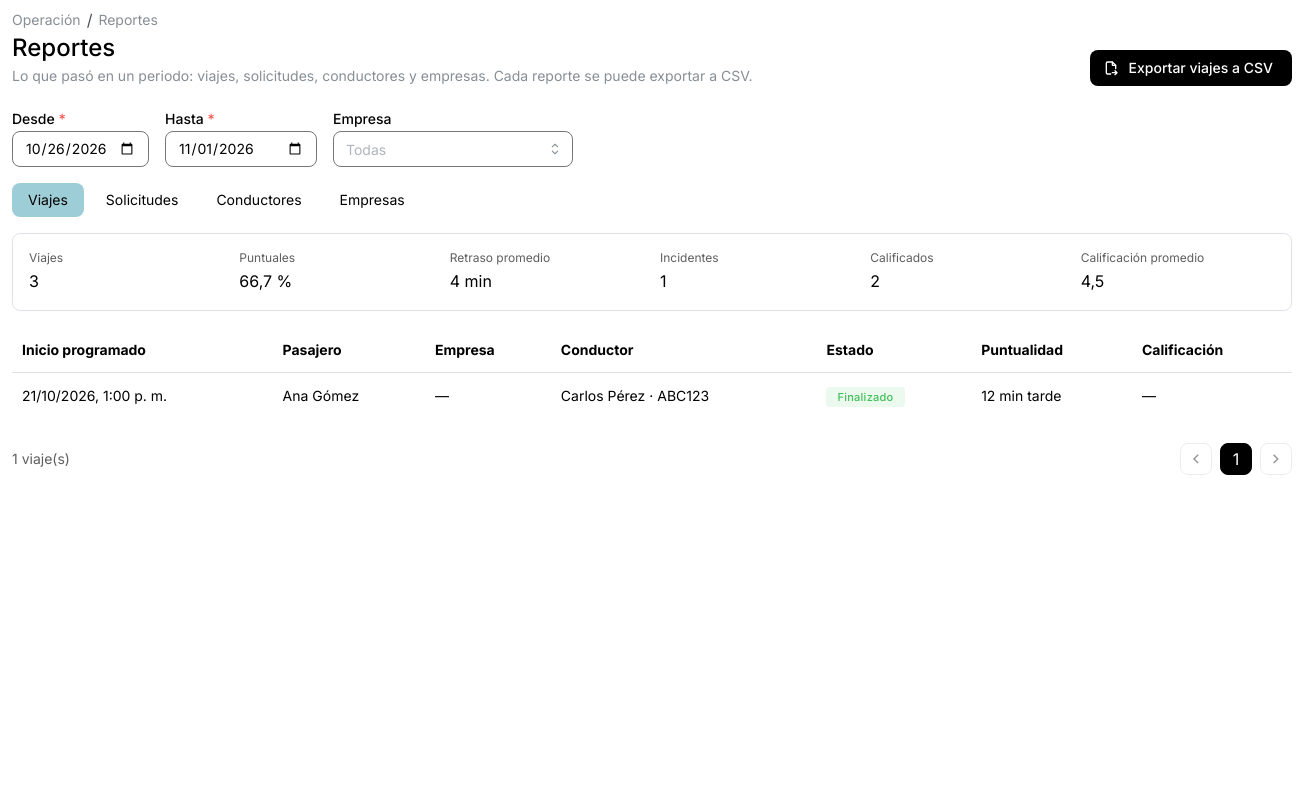
Test case: Reportes (RF-46 a RF-49) › filtra las solicitudes pendientes y exporta ese mismo reporte a CSV
Click the tab "Solicitudes" at (142, 200), box 90,183 -> 194,217
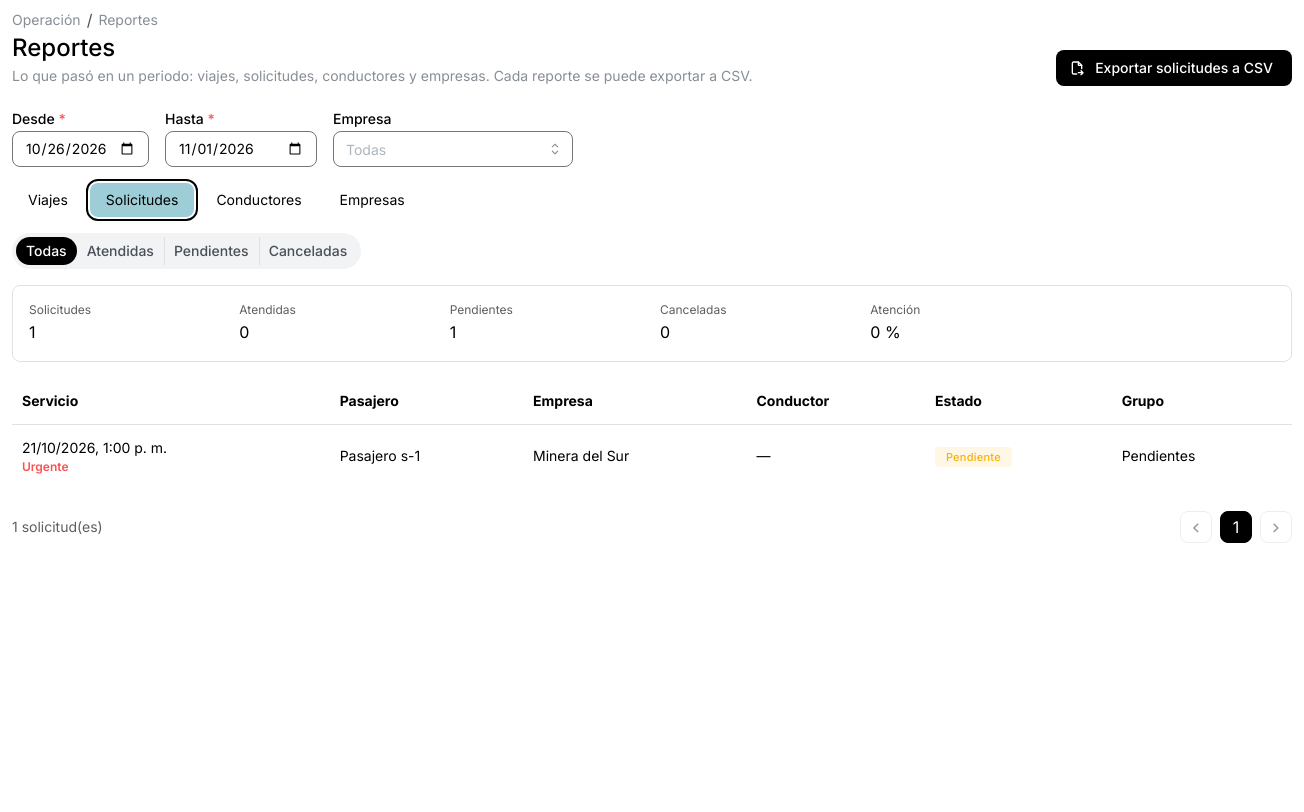
Click the radio button labelled "Pendientes" at (211, 250), box 174,242 -> 249,259
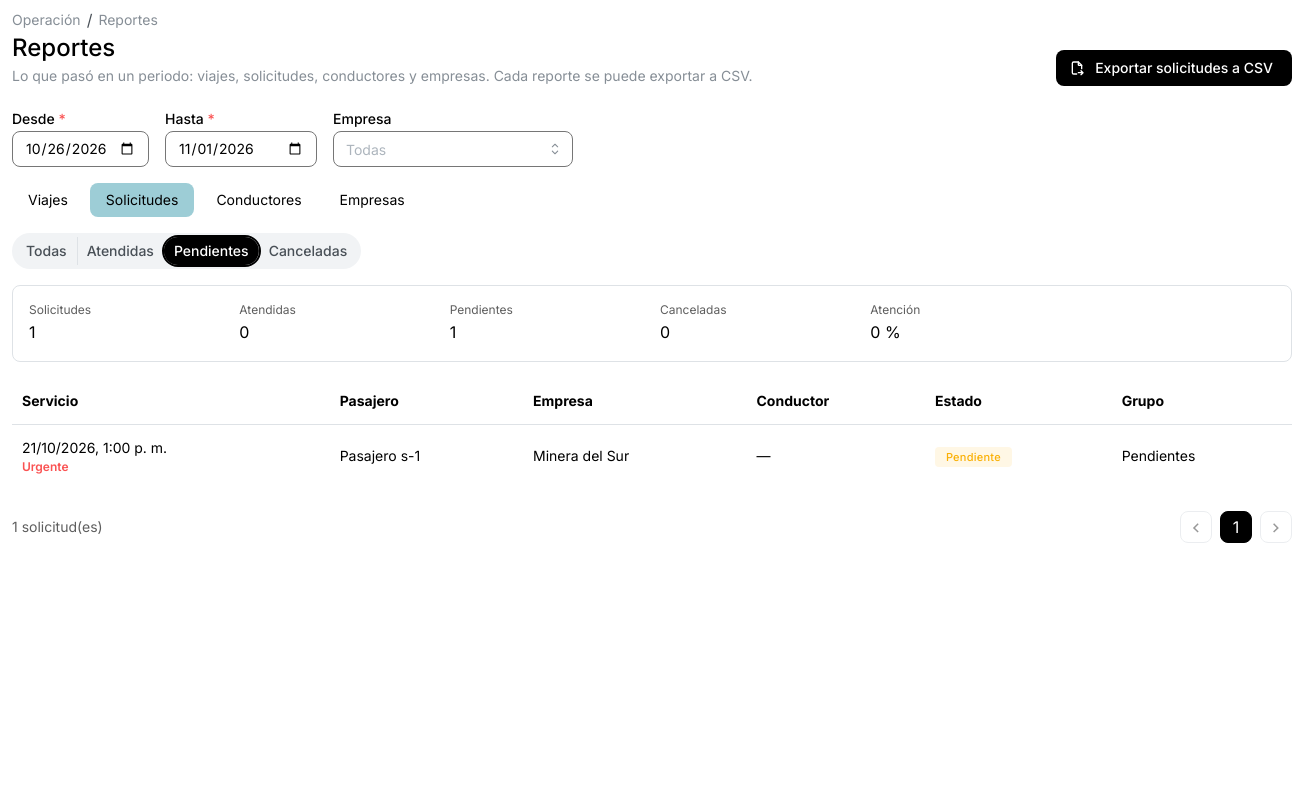
Now the text "Urgente" is shown, box 22,459 -> 68,474
Click the button "Exportar solicitudes a CSV" at (1174, 68), box 1056,50 -> 1292,86
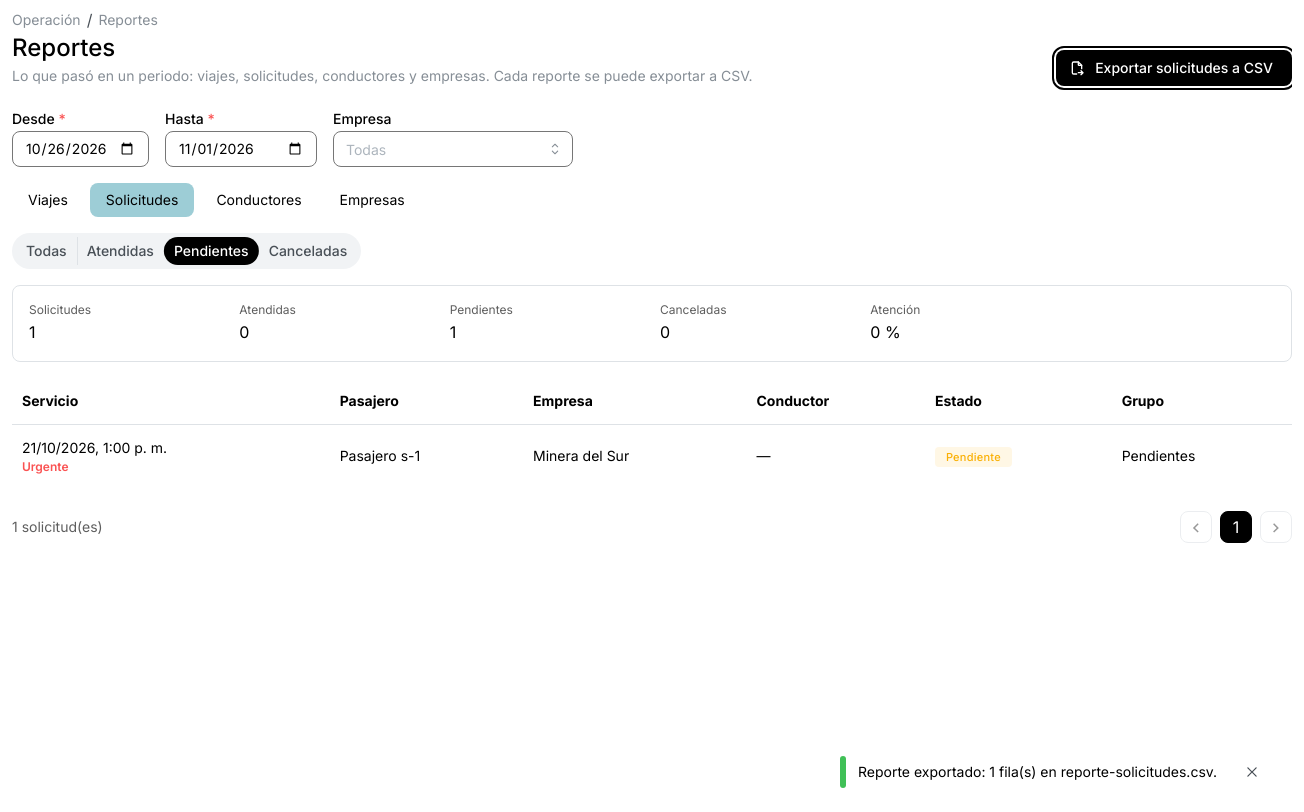
Now the text "Reporte exportado: 1 fila(s) en reporte-solicitudes.csv." is shown, box 858,762 -> 1228,782
